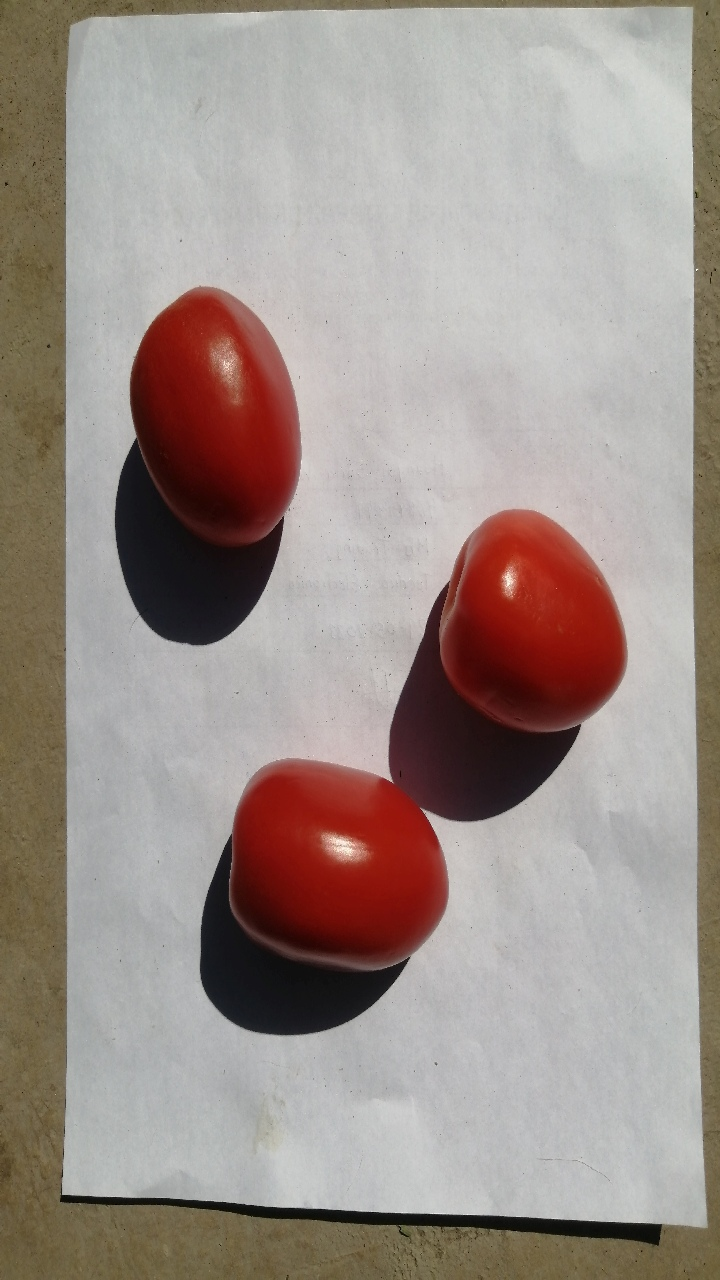tomateRojo: (204, 745, 460, 1006), (411, 489, 637, 751), (109, 279, 315, 555)
